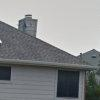Chimney: (15, 10, 49, 46)
